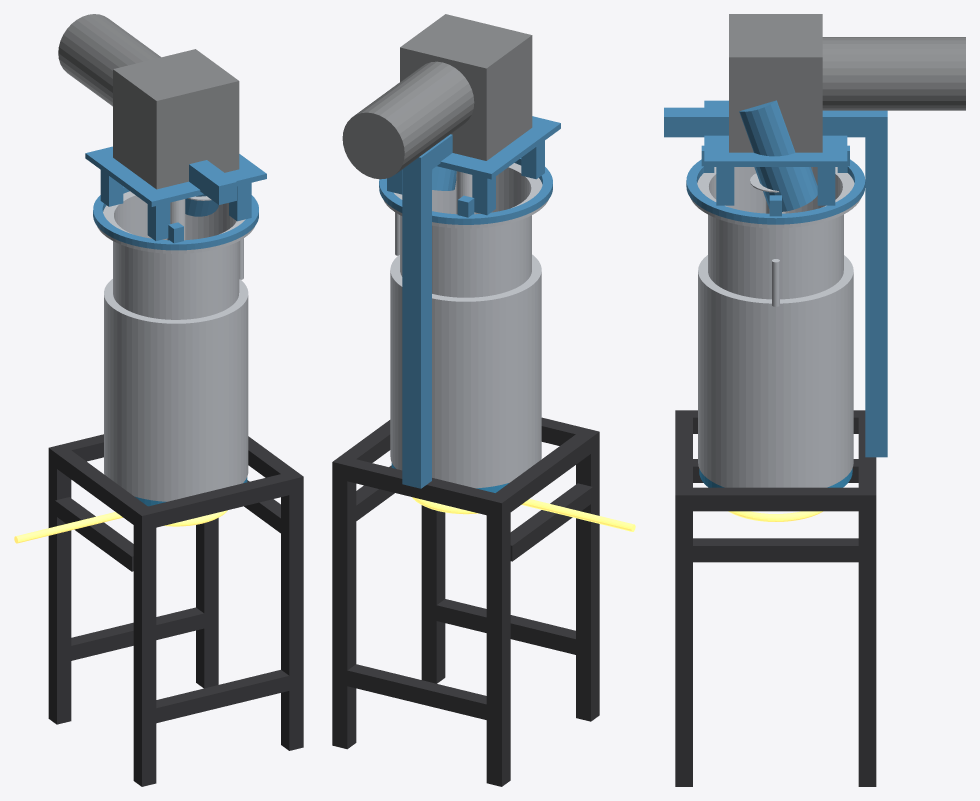
The model's file is prototipo_2_30kg.glb.
3 views of the same model, side by side, from view 1: azimuth 30°, elevation 25°; view 2: azimuth 150°, elevation 25°; view 3: azimuth 270°, elevation 25° (orthographic). The views are drawn at different scales.
Parts seen in each view (by area): view 1: 01_bastidor_EXISTENTE, 06_camisa, 12_motorreductor, 05_olla_interior, 03_collar_de_par, 02_columna_reforzada, 14_quemador, 13_boca_carga; view 2: 01_bastidor_EXISTENTE, 06_camisa, 12_motorreductor, 02_columna_reforzada, 05_olla_interior, 03_collar_de_par, 14_quemador, 13_boca_carga; view 3: 06_camisa, 01_bastidor_EXISTENTE, 12_motorreductor, 05_olla_interior, 02_columna_reforzada, 03_collar_de_par, 13_boca_carga, 14_quemador, 04_topes_antigiro.
Boxes of the visible parts, x1,y1,x2,y2 form: 01_bastidor_EXISTENTE: [48, 434, 303, 786]; 06_camisa: [104, 238, 248, 501]; 12_motorreductor: [58, 14, 239, 189]; 05_olla_interior: [97, 191, 254, 319]; 03_collar_de_par: [85, 146, 266, 250]; 02_columna_reforzada: [189, 160, 236, 204]; 14_quemador: [14, 510, 227, 543]; 13_boca_carga: [185, 194, 218, 216]; 01_bastidor_EXISTENTE: [332, 417, 599, 786]; 06_camisa: [390, 212, 541, 488]; 12_motorreductor: [342, 14, 532, 179]; 02_columna_reforzada: [402, 134, 452, 488]; 05_olla_interior: [383, 163, 548, 297]; 03_collar_de_par: [379, 116, 560, 224]; 14_quemador: [412, 497, 635, 531]; 13_boca_carga: [432, 166, 456, 190]; 06_camisa: [698, 255, 853, 487]; 01_bastidor_EXISTENTE: [675, 410, 876, 786]; 12_motorreductor: [729, 14, 965, 152]; 05_olla_interior: [690, 167, 860, 299]; 02_columna_reforzada: [664, 107, 887, 457]; 03_collar_de_par: [686, 100, 865, 224]; 13_boca_carga: [739, 100, 817, 211]; 14_quemador: [728, 511, 822, 521]; 04_topes_antigiro: [701, 145, 849, 216].
Size of what is drawn, in the model's own units: 0.675 by 1.75 by 0.675.
